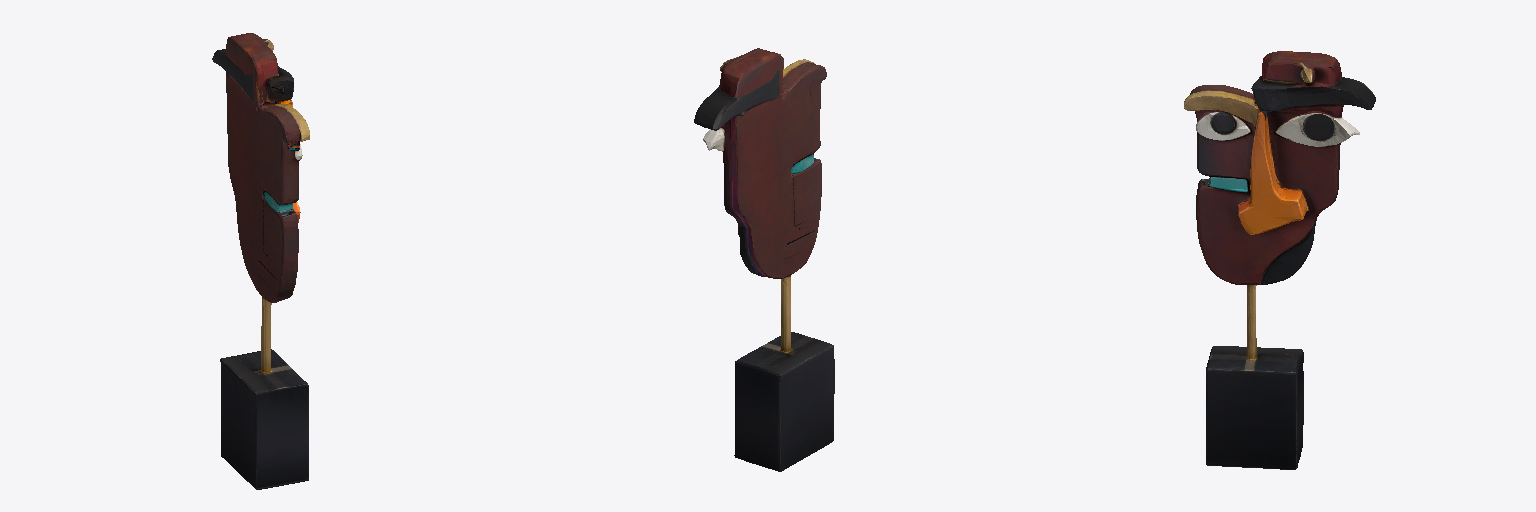
3 renders of one model, left to right at view 1: azimuth 30°, elevation 25°; view 2: azimuth 150°, elevation 25°; view 3: azimuth 270°, elevation 25°, orthographic.
Visible parts, largest first — view 1: estatuanueva1; view 2: estatuanueva1; view 3: estatuanueva1.
Boxes of the visible parts, x1,y1,x2,y2 form: estatuanueva1: [212, 33, 309, 489]; estatuanueva1: [694, 48, 834, 471]; estatuanueva1: [1184, 51, 1375, 469].
Size of the model in its own units: 1.47 by 8.56 by 3.68.
Materials: 1 (1 with a texture image).